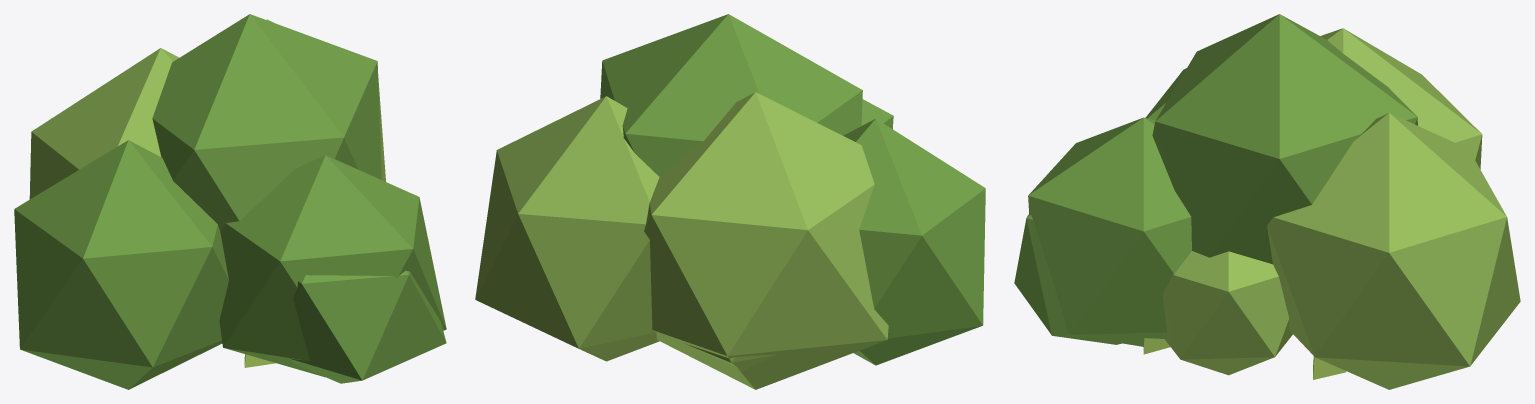
The model's file is bush.glb.
The picture shows the model from 3 angles, left to right: view 1: azimuth 30°, elevation 25°; view 2: azimuth 150°, elevation 25°; view 3: azimuth 270°, elevation 25°; orthographic projection. The views are drawn at different scales.
Parts seen in each view (by area): view 1: bush_variant_0, bush_variant_1; view 2: bush_variant_0, bush_variant_1; view 3: bush_variant_0, bush_variant_1, bush_variant_2.
Part boxes in pixels (<box>): bush_variant_0: <box>29,14,446,377</box>; bush_variant_1: <box>14,140,446,389</box>; bush_variant_0: <box>475,14,893,389</box>; bush_variant_1: <box>684,118,985,370</box>; bush_variant_0: <box>1028,14,1520,389</box>; bush_variant_1: <box>1014,68,1292,375</box>; bush_variant_2: <box>1143,338,1346,379</box>.
Size of the model in its own units: 0.1367 by 0.1056 by 0.1367.
